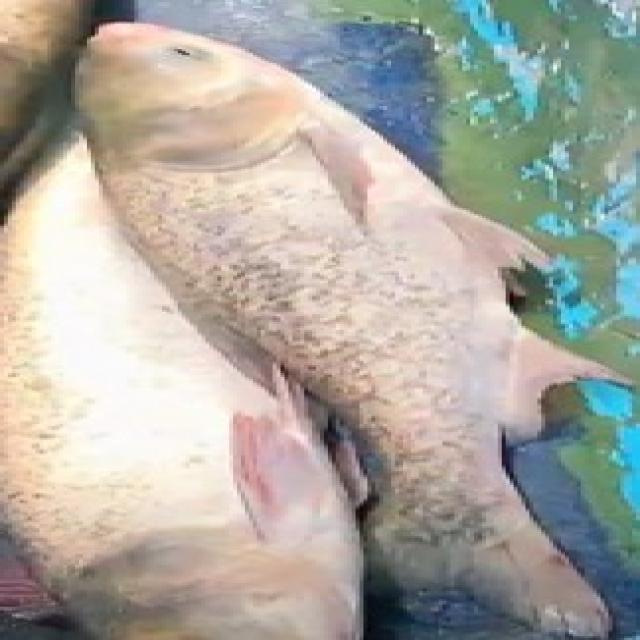Big-Head-Carp: (44, 20, 623, 626)
